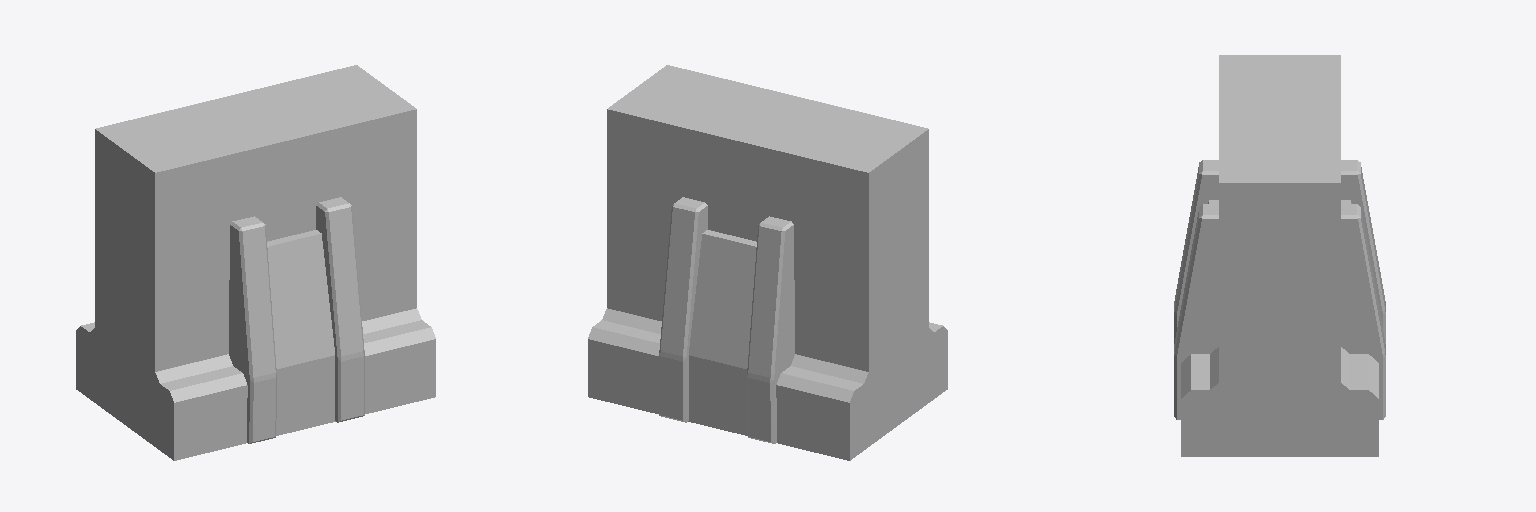
File: wall.obj
3 renders of one model, left to right at view 1: azimuth 30°, elevation 25°; view 2: azimuth 150°, elevation 25°; view 3: azimuth 270°, elevation 25°, orthographic.
Parts seen in each view (by area): view 1: stone_wall_detailed; view 2: stone_wall_detailed; view 3: stone_wall_detailed.
Part boxes in pixels (bbox=[...]): stone_wall_detailed: bbox=[76, 65, 435, 460]; stone_wall_detailed: bbox=[588, 65, 947, 460]; stone_wall_detailed: bbox=[1174, 55, 1385, 456].
Size of the model in its own units: 6 by 6 by 4.19.